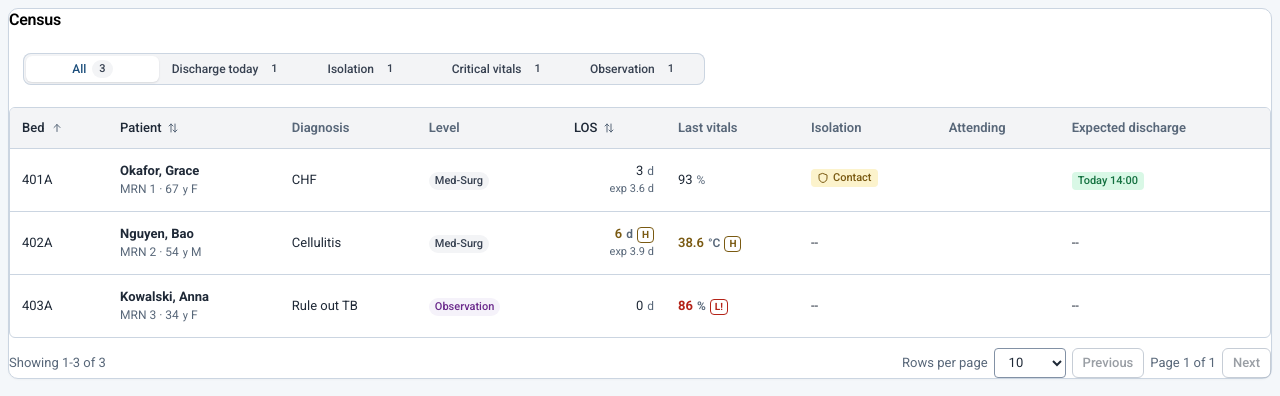
Test: CensusList › filters the census and counts each filter
This screenshot has width=1280, height=396.
Click the radio button labelled "Critical vitals 1" at (500, 69), box [433, 56, 566, 82]
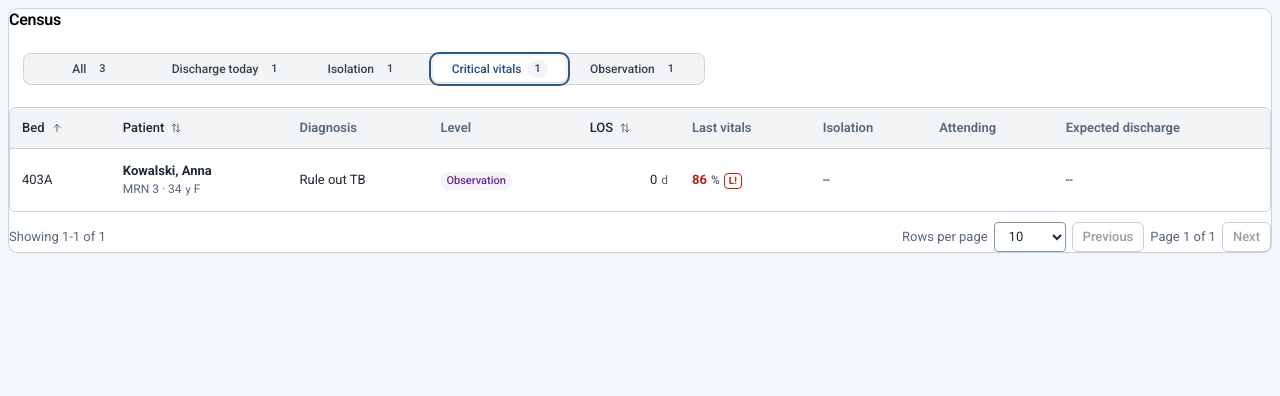
Check: the text "Kowalski, Anna" is shown, box [123, 162, 212, 178]
Check: the text "Okafor, Grace" is gone
Click the radio button labelled "Discharge today 1" at (228, 69), box [162, 56, 295, 82]
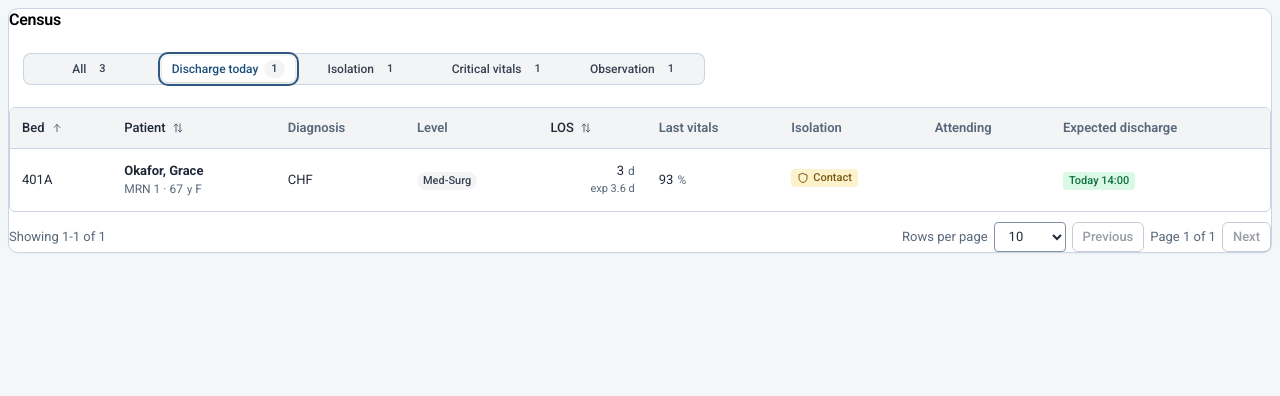
Check: the text "Okafor, Grace" is shown, box [124, 162, 203, 178]
Check: the text "Today 14:00" is shown, box [1063, 172, 1135, 190]
